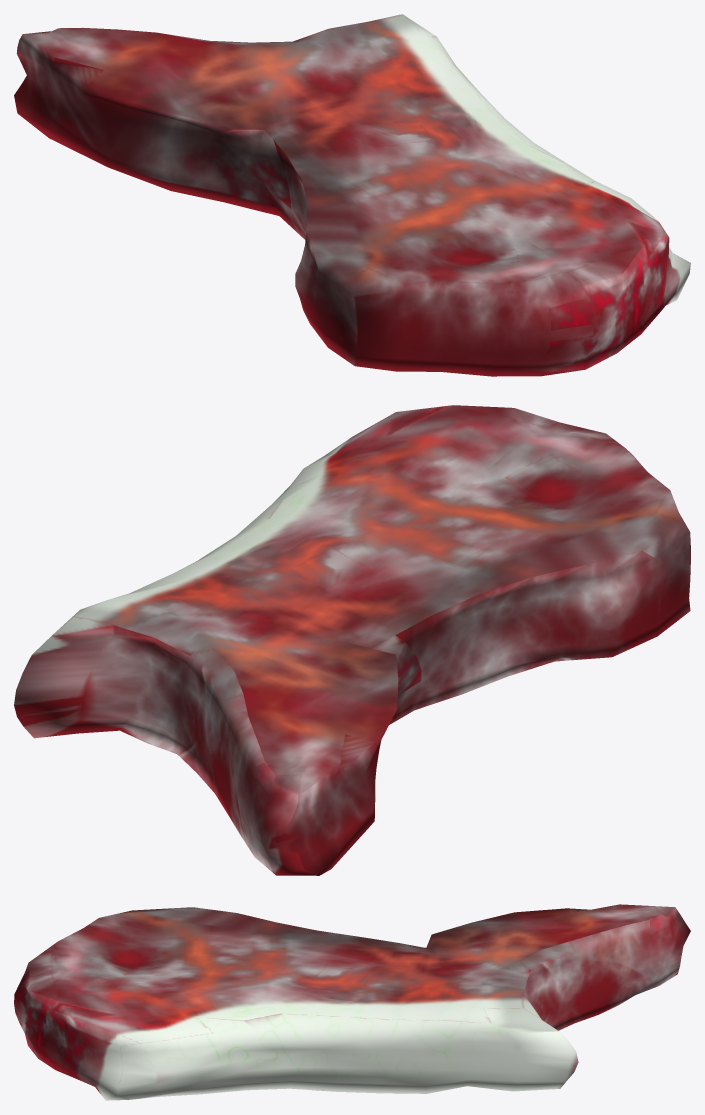
Rendered from Steak.fbx.
The picture shows the model from 3 angles, top to bottom: view 1: azimuth 30°, elevation 25°; view 2: azimuth 150°, elevation 25°; view 3: azimuth 270°, elevation 25°; orthographic projection. The views are drawn at different scales.
Parts seen in each view (by area): view 1: Cube; view 2: Cube; view 3: Cube.
Boxes of the visible parts, bbox=[...] form: Cube: bbox=[14, 14, 690, 376]; Cube: bbox=[14, 405, 690, 875]; Cube: bbox=[14, 904, 690, 1100].
Size of the model in its own units: 11.77 by 3.72 by 24.78.
